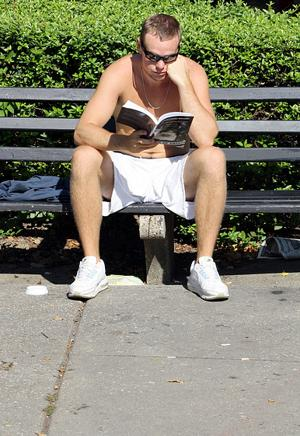person: (68, 12, 232, 306)
